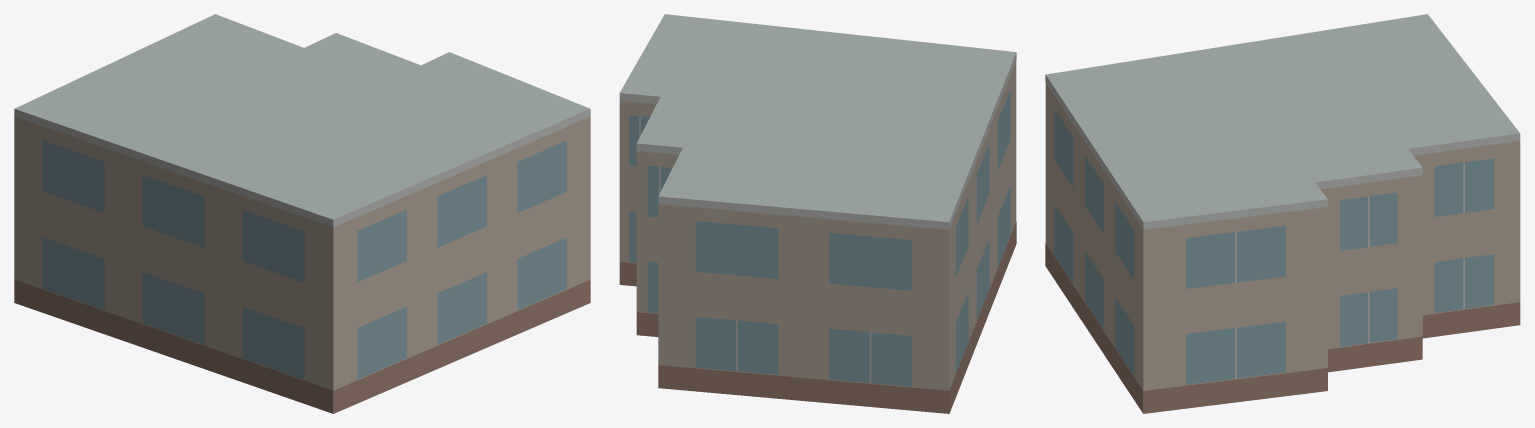
The model's file is survey-upis-32835917.glb.
The picture shows the model from 3 angles, left to right: view 1: azimuth 30°, elevation 25°; view 2: azimuth 150°, elevation 25°; view 3: azimuth 270°, elevation 25°; orthographic projection.
Parts seen in each view (by area): view 1: survey-upis-32835917.tmp; view 2: survey-upis-32835917.tmp; view 3: survey-upis-32835917.tmp.
Part boxes in pixels (x1,y1,x2,y2): survey-upis-32835917.tmp: [14, 14, 590, 413]; survey-upis-32835917.tmp: [619, 14, 1016, 413]; survey-upis-32835917.tmp: [1045, 14, 1520, 413].
Bounding box in the file's own units: 14.22 × 6.1 × 13.7.
